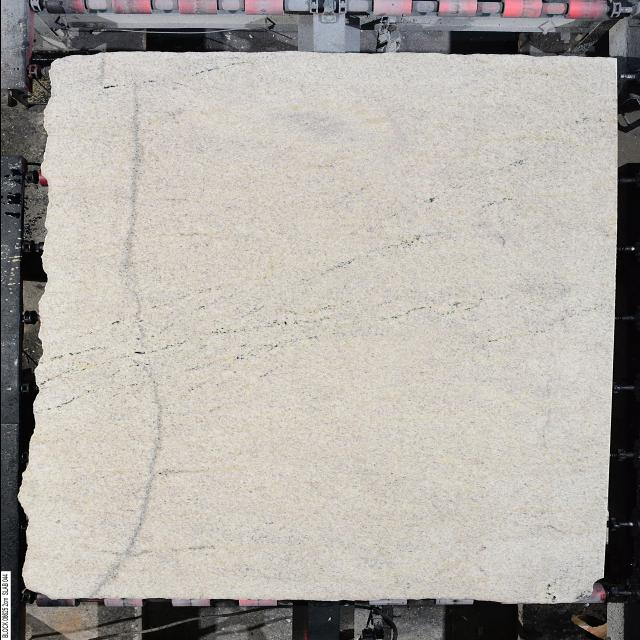chapa: (19, 51, 617, 602)
